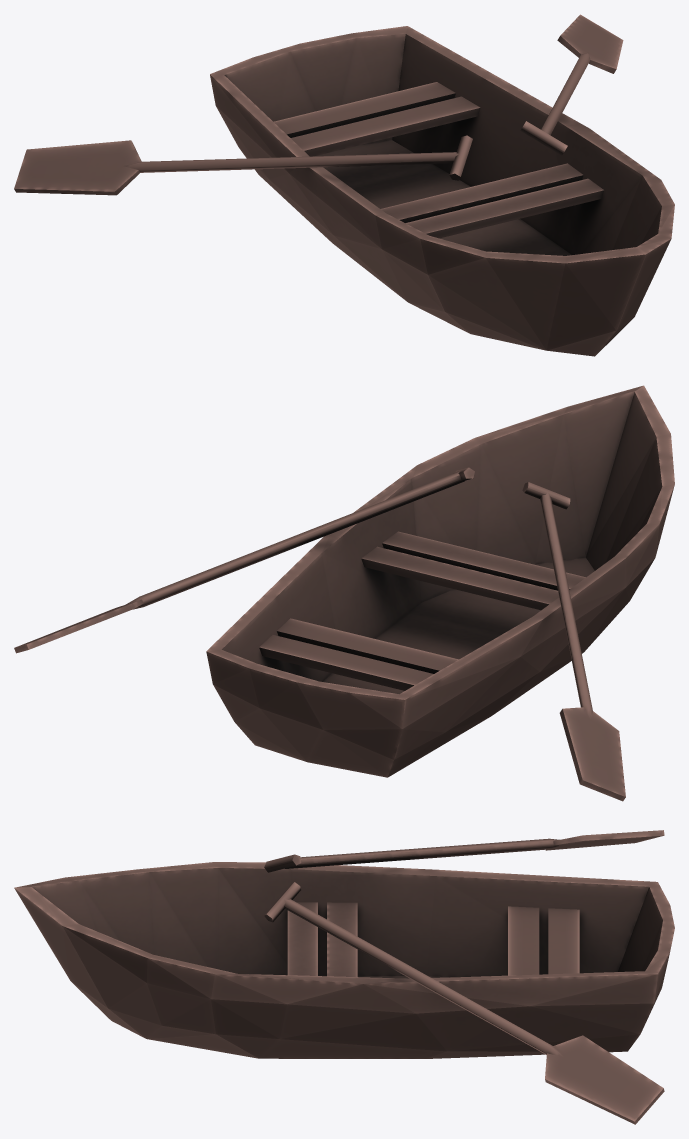
The model's file is Boat_4.fbx.
3 views of the same model, one above another, from view 1: azimuth 30°, elevation 25°; view 2: azimuth 150°, elevation 25°; view 3: azimuth 270°, elevation 25° (orthographic). The views are drawn at different scales.
Parts seen in each view (by area): view 1: Boat_4; view 2: Boat_4; view 3: Boat_4.
Boxes of the visible parts, box(x1,y1,x2,y2) form: Boat_4: box(14, 14, 674, 356); Boat_4: box(14, 385, 674, 801); Boat_4: box(14, 830, 674, 1124).
Bounding box in the file's own units: 116 × 28.86 × 114.
